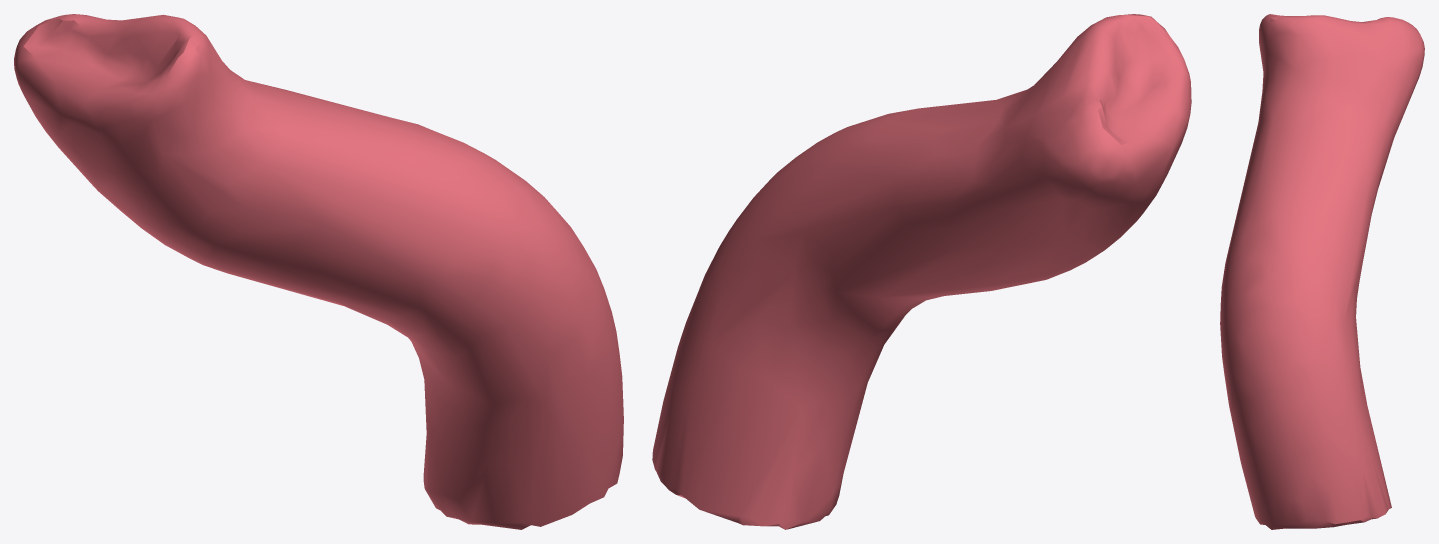
File: fma3932nsn.glb
The picture shows the model from 3 angles, left to right: view 1: azimuth 30°, elevation 25°; view 2: azimuth 150°, elevation 25°; view 3: azimuth 270°, elevation 25°; orthographic projection. The views are drawn at different scales.
Parts seen in each view (by area): view 1: FMA3932nsn; view 2: FMA3932nsn; view 3: FMA3932nsn.
Part boxes in pixels (left/top/right/bottom): FMA3932nsn: left=14, top=14, right=623, bottom=529; FMA3932nsn: left=652, top=14, right=1191, bottom=529; FMA3932nsn: left=1220, top=14, right=1424, bottom=529.
Size of the model in its own units: 0.0376 by 0.0381 by 0.0181.
